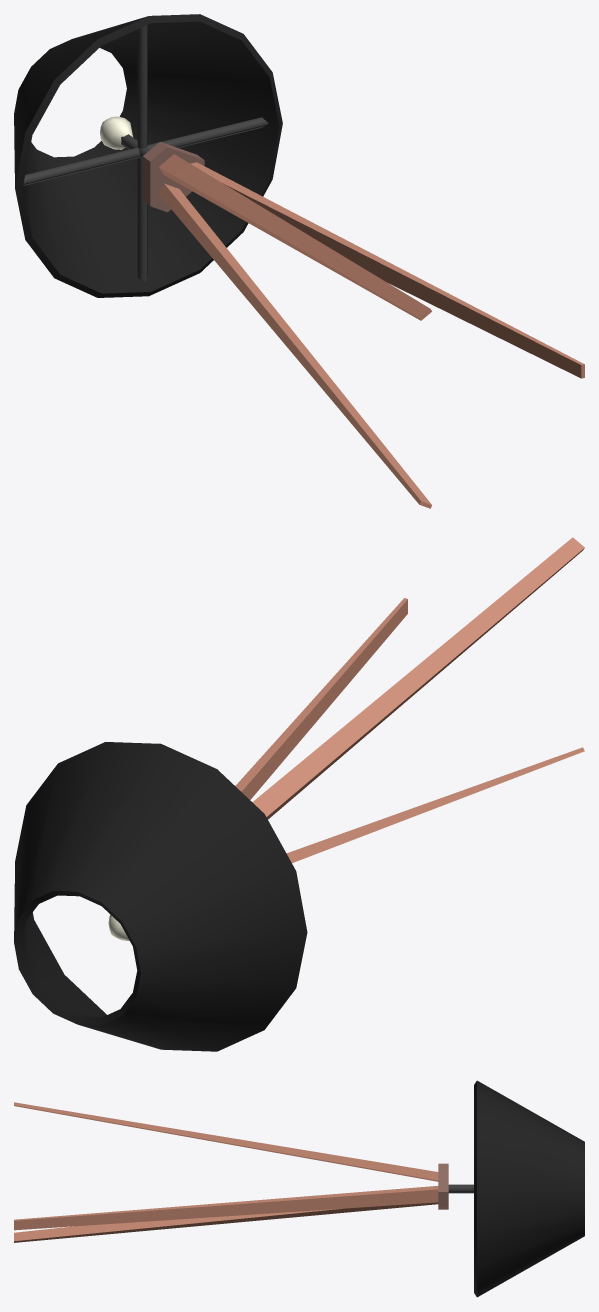
Rendered from floor-lamp-b.glb.
3 views of the same model, one above another, from view 1: azimuth 30°, elevation 25°; view 2: azimuth 150°, elevation 25°; view 3: azimuth 270°, elevation 25° (orthographic). The views are drawn at different scales.
Visible parts, largest first — view 1: lamp_floor_010; view 2: lamp_floor_010; view 3: lamp_floor_010.
Boxes of the visible parts, x1=… form: lamp_floor_010: x1=14, y1=14, x2=584, y2=508; lamp_floor_010: x1=14, y1=537, x2=584, y2=1051; lamp_floor_010: x1=14, y1=1080, x2=584, y2=1297.
Bounding box in the file's own units: 0.6664 × 0.6664 × 1.75.
1 material, 1 textured.
